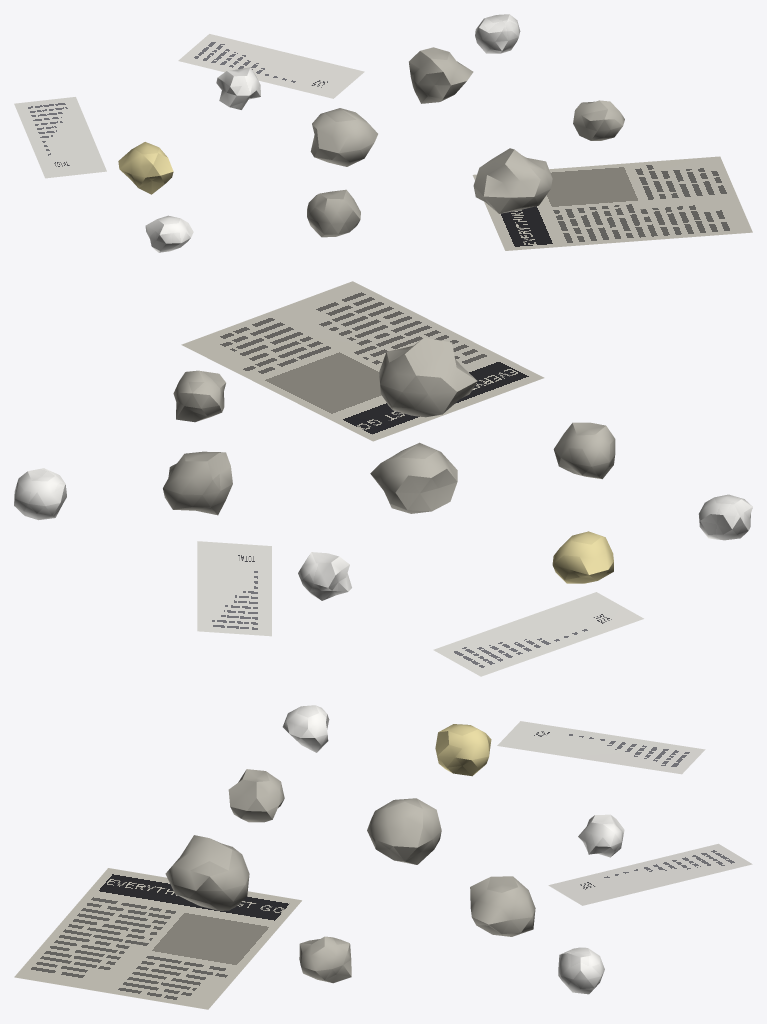
Rendered from paper_litter.glb.
The picture shows the model from 3 angles, top to bottom: view 1: azimuth 30°, elevation 25°; view 2: azimuth 150°, elevation 25°; view 3: azimuth 270°, elevation 25°; orthographic projection. The views are drawn at different scales.
Visible parts, largest first — view 1: panels, body; view 2: panels, body; view 3: panels, body.
Part boxes in pixels (x1,y1,x2,y2): panels: (14,34,752,250); body: (118,14,624,252); panels: (181,281,643,676); body: (14,337,752,600); panels: (14,721,752,1009); body: (165,705,624,994).
Bounding box in the file's own units: 0.6846 × 0.0775 × 0.7507.
4 materials, 2 textured.
